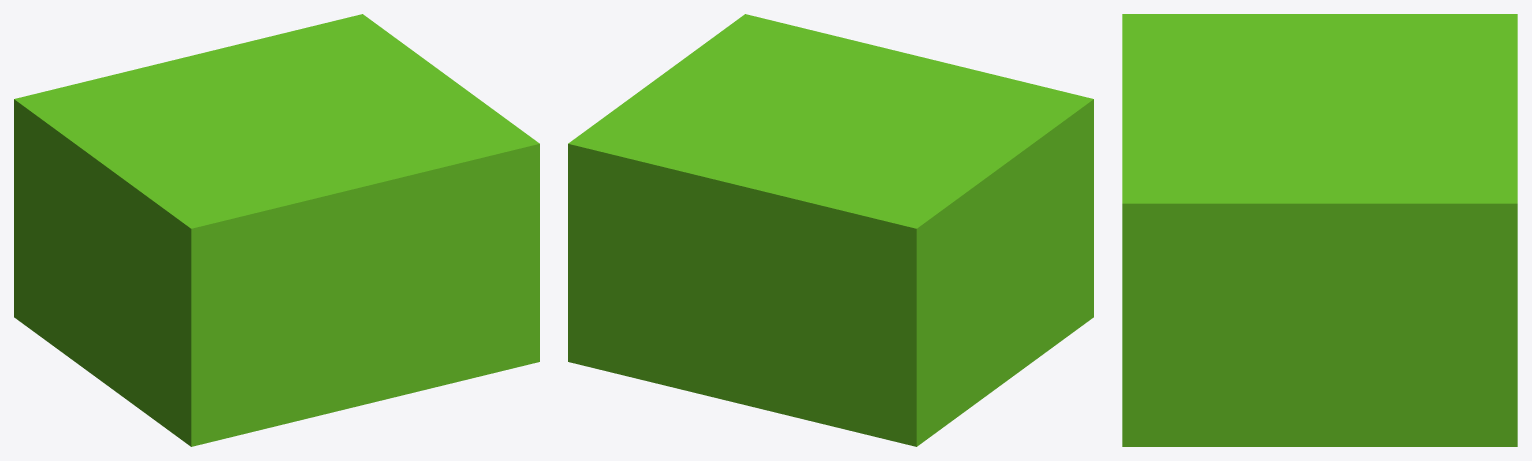
File: parcelSPXMY0017.glb
3 views of the same model, side by side, from view 1: azimuth 30°, elevation 25°; view 2: azimuth 150°, elevation 25°; view 3: azimuth 270°, elevation 25° (orthographic). The views are drawn at different scales.
Visible parts, largest first — view 1: color; view 2: color; view 3: color.
Part boxes in pixels (bbox=[...]): color: bbox=[14, 14, 539, 446]; color: bbox=[568, 14, 1093, 446]; color: bbox=[1122, 14, 1517, 446].
Size of the model in its own units: 0.92 by 0.55 by 0.81.
